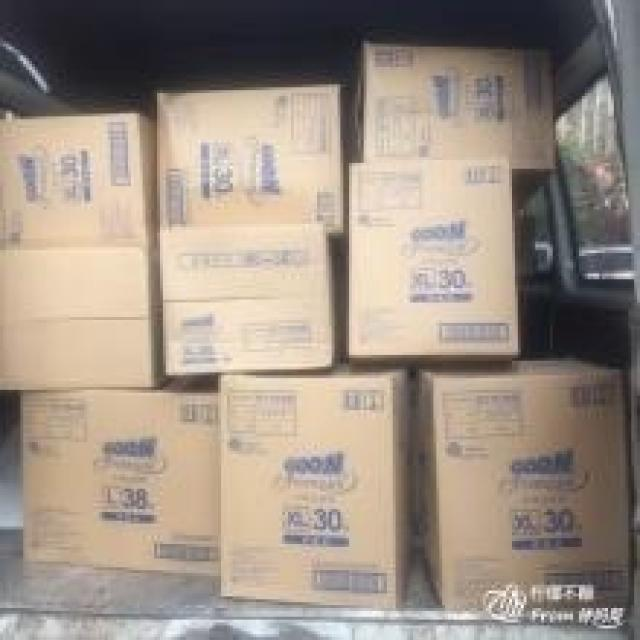box: (416, 355, 634, 564), (218, 355, 422, 564), (20, 375, 221, 564), (346, 44, 556, 215), (346, 160, 521, 364), (157, 221, 343, 378), (154, 84, 346, 233), (0, 247, 166, 393), (0, 111, 157, 247)
